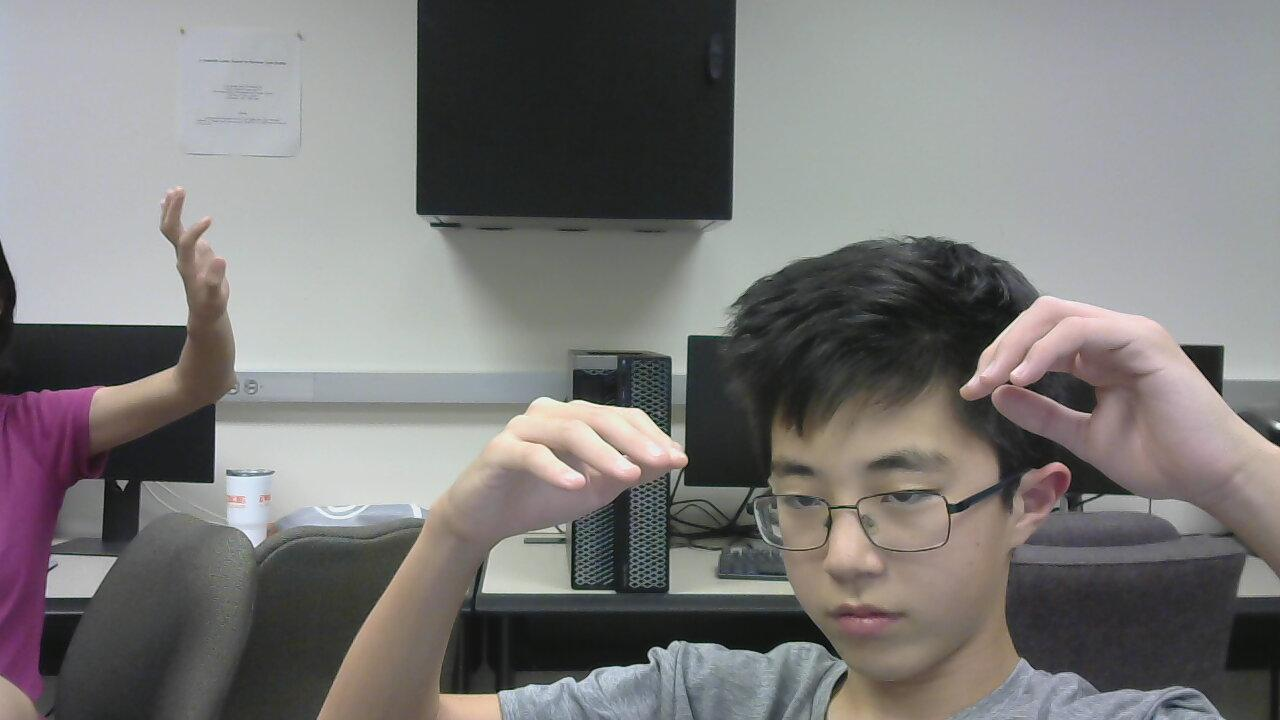hands: (969, 268, 1233, 520), (435, 382, 675, 536), (155, 175, 234, 328)
